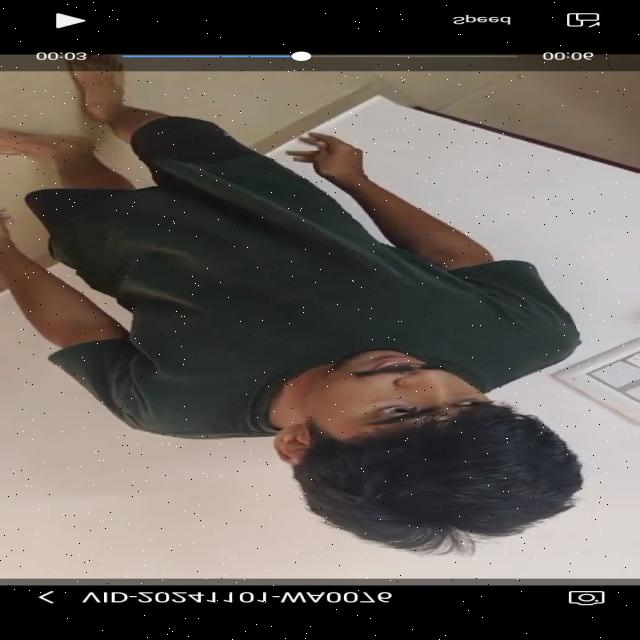humans: (1, 72, 592, 560)
